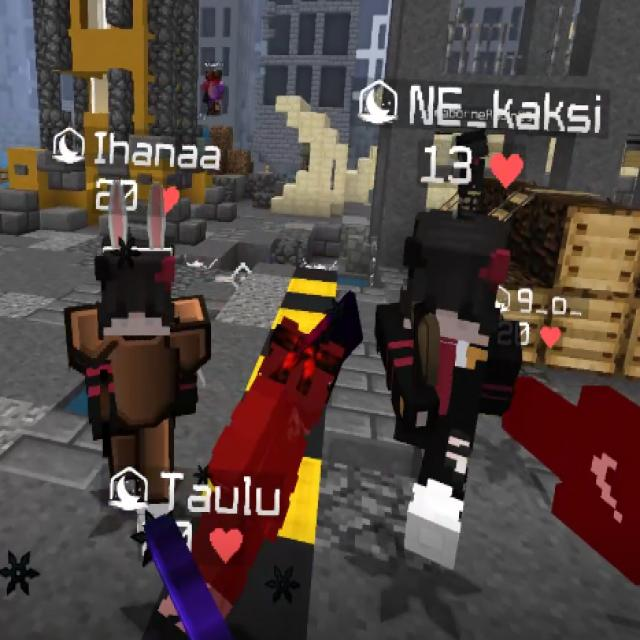Player: (374, 208, 519, 582), (62, 237, 212, 507)
